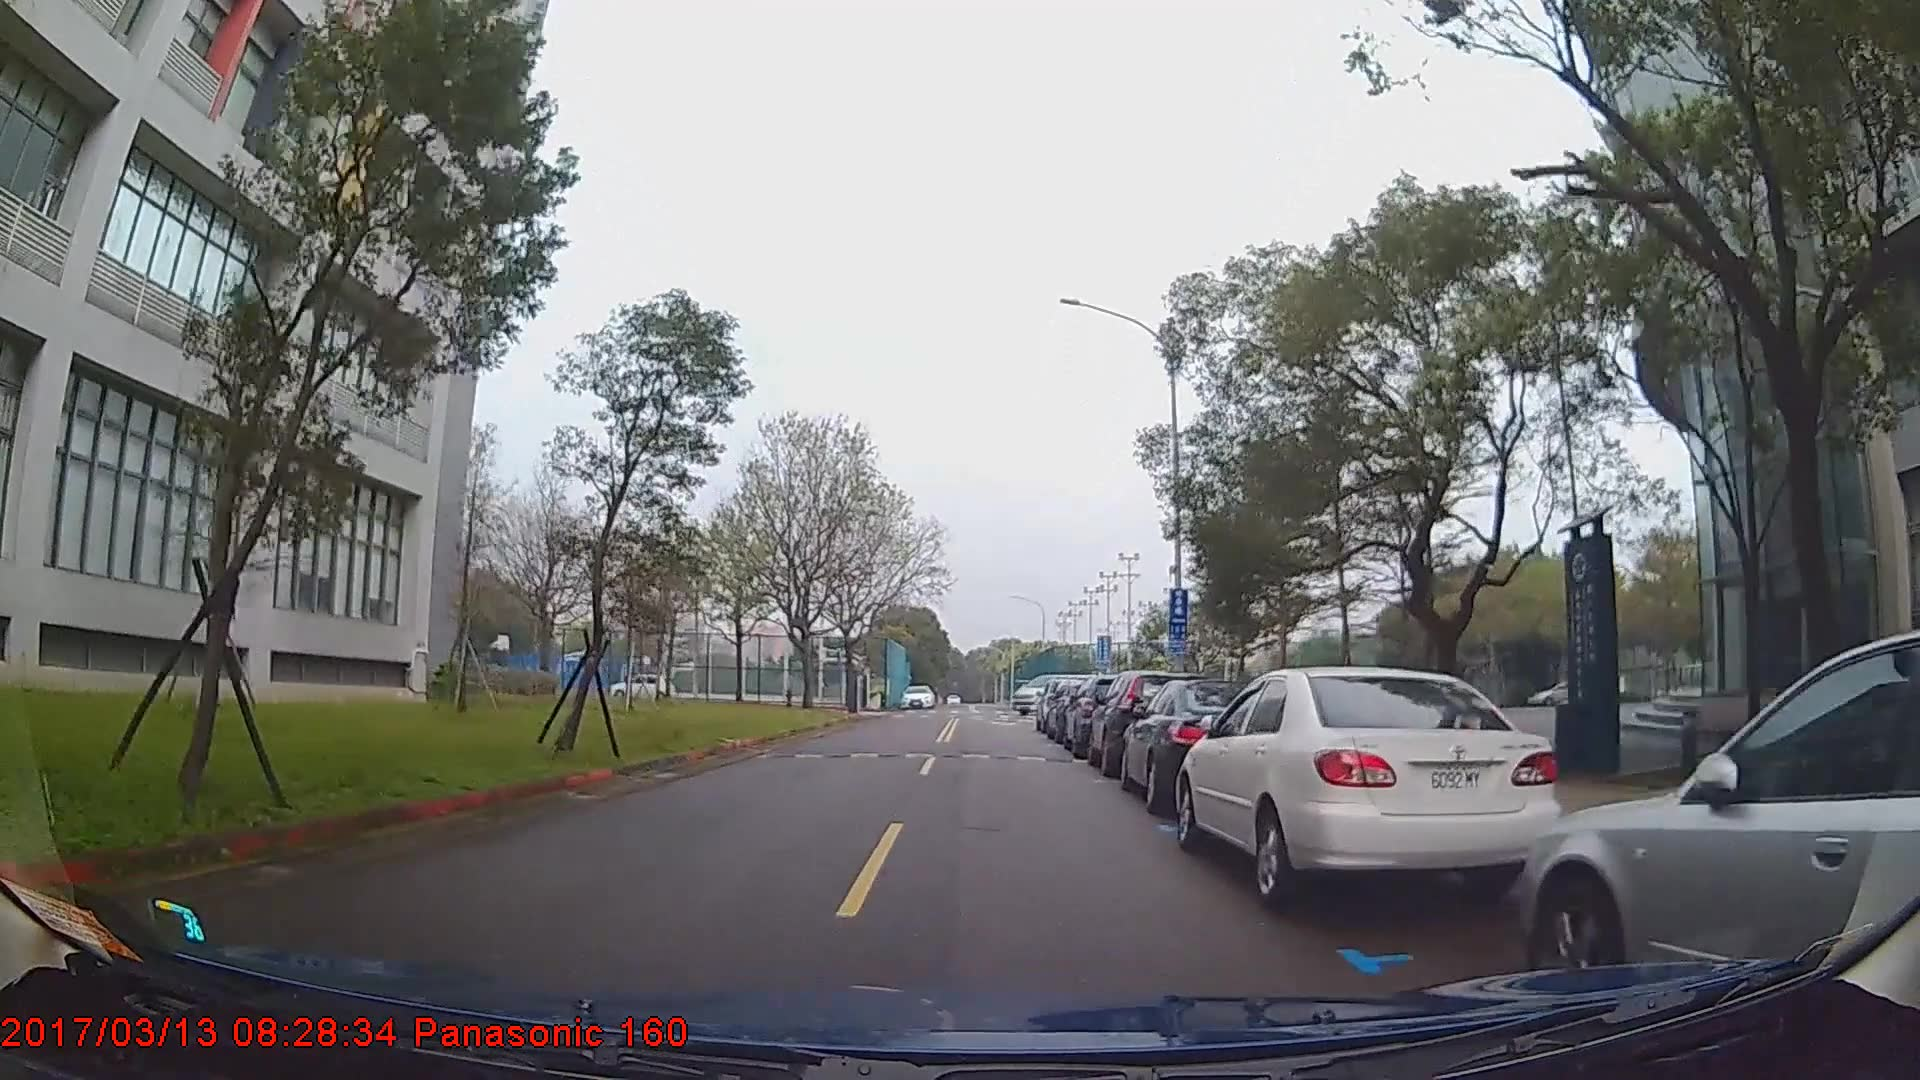vehicle: (1519, 632, 1920, 1011), (1174, 663, 1564, 909), (1120, 675, 1280, 814), (607, 671, 673, 699), (899, 684, 934, 708)
